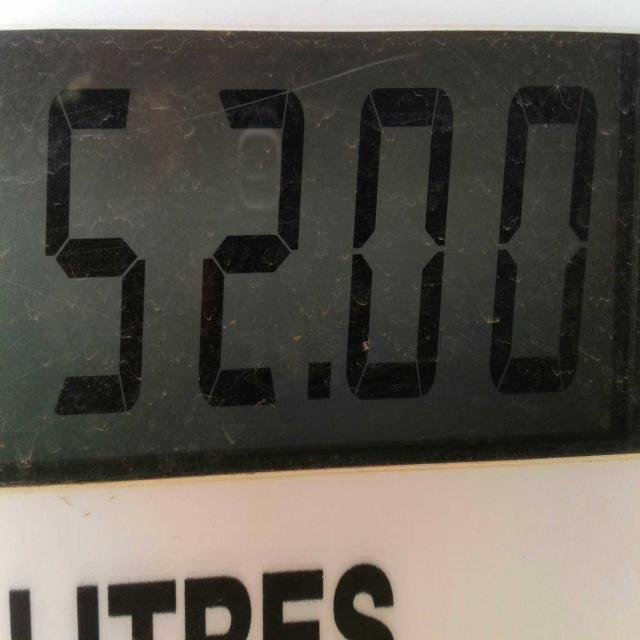.: (308, 364, 331, 402)
0: (350, 90, 448, 388), (494, 88, 592, 380)
2: (199, 90, 302, 400)
5: (47, 85, 144, 422)
